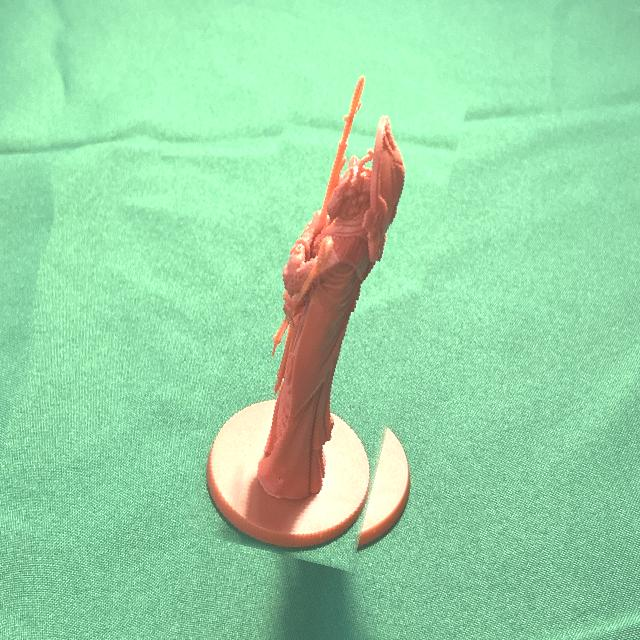amon: (211, 64, 441, 566)
